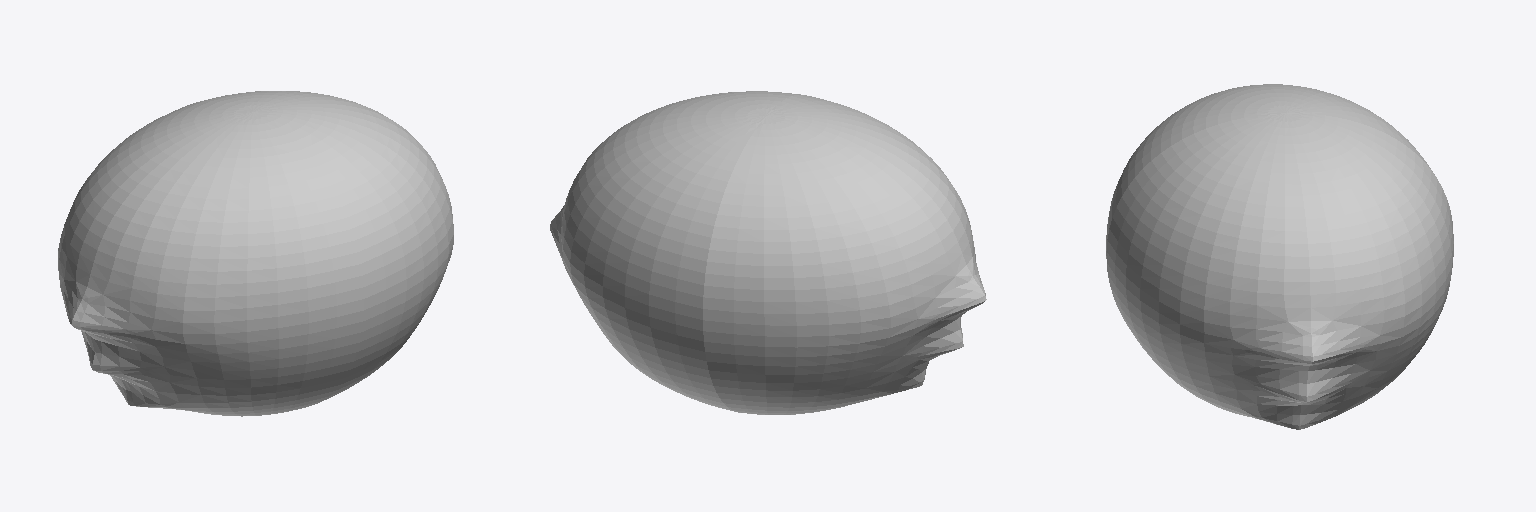
The model's file is catHead.obj.
3 renders of one model, left to right at view 1: azimuth 30°, elevation 25°; view 2: azimuth 150°, elevation 25°; view 3: azimuth 270°, elevation 25°, orthographic.
Visible parts, largest first — view 1: Head_2_VB Head Head_grp Cat_Mirror Cat; view 2: Head_2_VB Head Head_grp Cat_Mirror Cat; view 3: Head_2_VB Head Head_grp Cat_Mirror Cat.
Boxes of the visible parts, x1=… form: Head_2_VB Head Head_grp Cat_Mirror Cat: x1=58, y1=91, x2=453, y2=416; Head_2_VB Head Head_grp Cat_Mirror Cat: x1=550, y1=91, x2=986, y2=414; Head_2_VB Head Head_grp Cat_Mirror Cat: x1=1106, y1=84, x2=1453, y2=429.
Size of the model in its own units: 2.65 by 1.79 by 1.98.